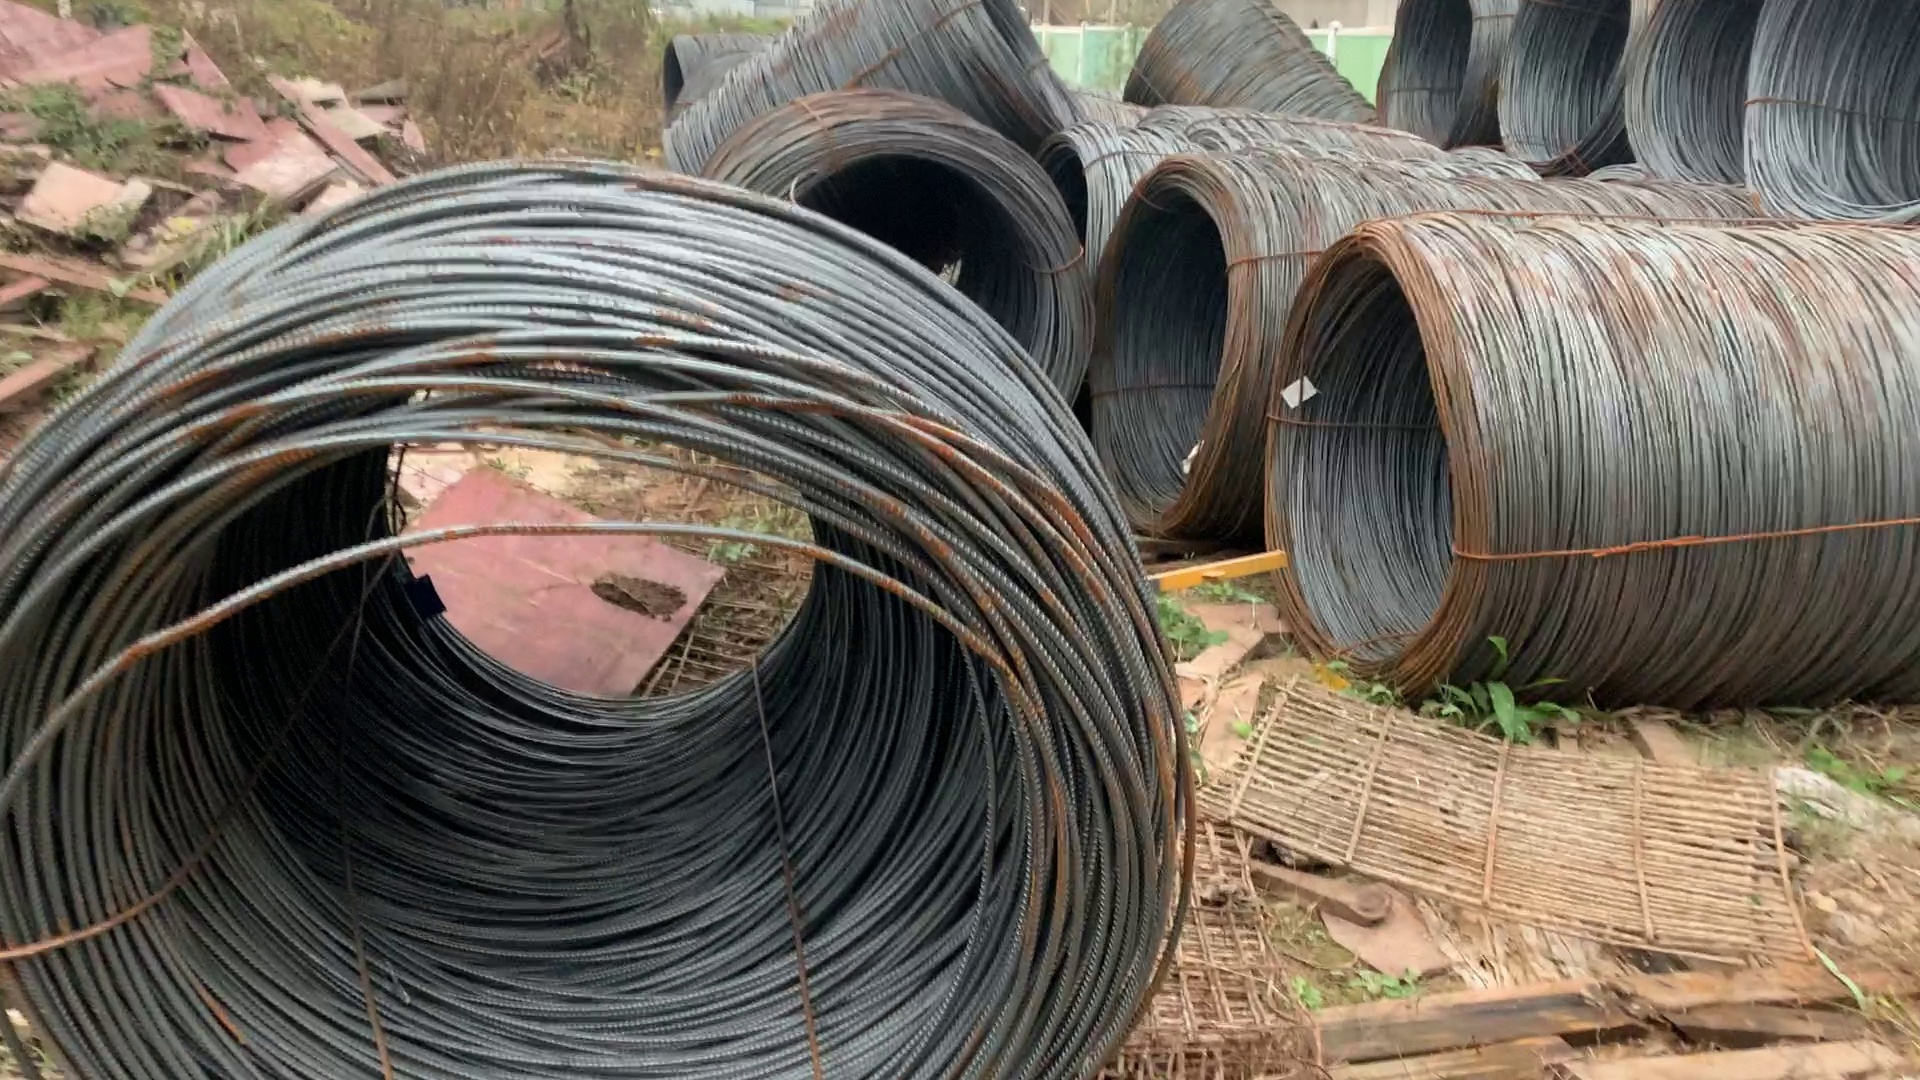coil: (1, 411, 1171, 1073), (696, 127, 1098, 440), (1276, 243, 1499, 669), (1104, 154, 1251, 549), (1754, 4, 1917, 232), (1638, 4, 1768, 204), (980, 1, 1113, 164), (1503, 1, 1625, 174), (1379, 1, 1477, 157), (646, 26, 704, 146)
